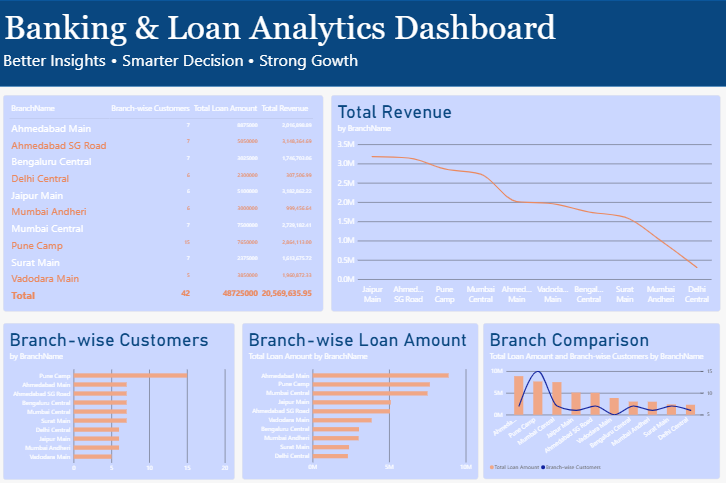

This screenshot's page, from the dashboard's own definition file:
{"tool":"powerbi","page":{"name":"Branch Analysis","canvas":[1920,1280],"ordinal":3},"visuals":[{"type":"shape","box":[0,0,1920,227.5],"z":0},{"type":"textbox","box":[17.5,20,1902.5,122.5],"z":1000},{"type":"textbox","box":[16.7,130,280,63.3],"z":2000},{"type":"textbox","box":[265,130,437.5,62.5],"z":3000},{"type":"textbox","box":[625,130,345,62.5],"z":4000},{"type":"clusteredBarChart","fields":{"Category":["Branches.BranchName"],"Y":["Branches.Branch-wise Customers"]},"box":[16.7,850,610,413.3],"z":5000},{"type":"clusteredBarChart","title":"Branch-wise Loan Amount","fields":{"Category":["Branches.BranchName"],"Y":["Loans.Total Loan Amount"]},"box":[644,850,622,412],"z":6000},{"type":"lineChart","fields":{"Category":["Branches.BranchName"],"Y":["Transactions.Total Revenue"]},"box":[878.8,248.8,1025,570],"z":7000},{"type":"pivotTable","fields":{"Rows":["Branches.BranchName"],"Values":["Branches.Branch-wise Customers","Loans.Total Loan Amount","Transactions.Total Revenue"]},"box":[16.7,248.9,843.3,570],"z":7001},{"type":"lineClusteredColumnComboChart","title":"Branch Comparison","fields":{"Category":["Branches.BranchName"],"Y":["Loans.Total Loan Amount"],"Y2":["Branches.Branch-wise Customers"]},"box":[1280,850,624.3,411.4],"z":7002}]}

Visuals, with their boxes in screenshot pixels (x1, y1, x2, y2), scaled from the page's 1920x1280 canvas onto the 726x483 screenshot:
shape: 0, 0, 725, 86
textbox: 7, 8, 725, 54
textbox: 6, 49, 112, 73
textbox: 100, 49, 266, 73
textbox: 236, 49, 367, 73
clusteredBarChart - Branches.BranchName x Branches.Branch-wise Customers: 6, 321, 237, 477
"Branch-wise Loan Amount" clusteredBarChart: 244, 321, 479, 476
lineChart - Branches.BranchName x Transactions.Total Revenue: 332, 94, 720, 309
pivotTable - Branches.BranchName x Branches.Branch-wise Customers: 6, 94, 325, 309
"Branch Comparison" lineClusteredColumnComboChart: 484, 321, 720, 476
